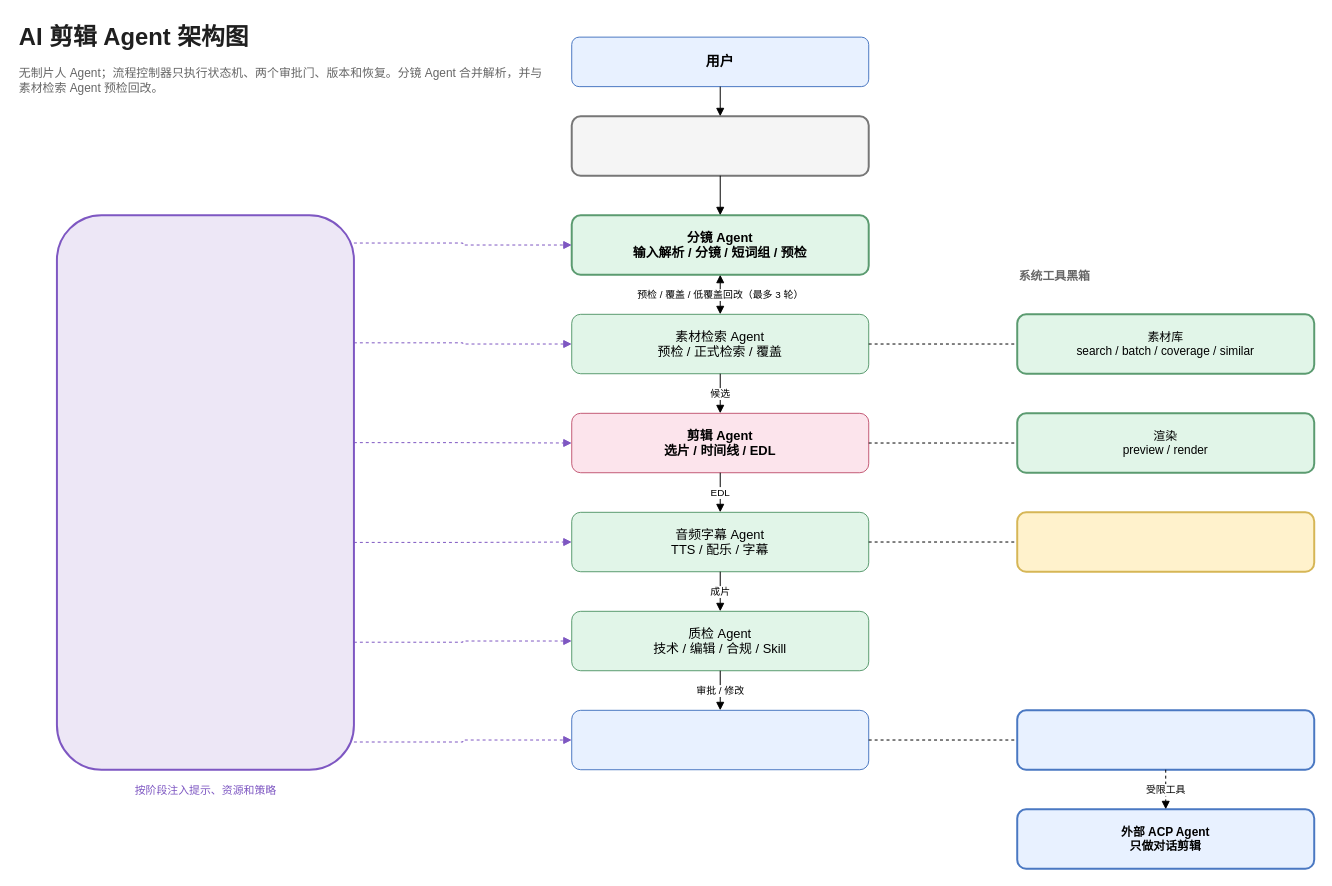
The diagram is 1332 pixels wide and 886 high, and some of its shapes have lost their labels. The shapes that lost their labels are listed below. From the top down, each one's centre as x and y in pixels, then its label:
At point 719,145: "流程控制器（非 Agent） 阶段 / 审批门 / 版本 / 恢复".
At point 204,492: "Skill 管理服务 导入 / 路由 / 渐进加载 / 权限 / 版本 不直接改项目".
At point 1165,541: "TTS / 配乐 / 字幕 synthesize / recommend / align".
At point 720,739: "对话剪辑 Agent 改时间线；结构变更回分镜审批".
At point 1165,739: "MCP 工具面 read / edit_timeline / preview / undo / lock".
